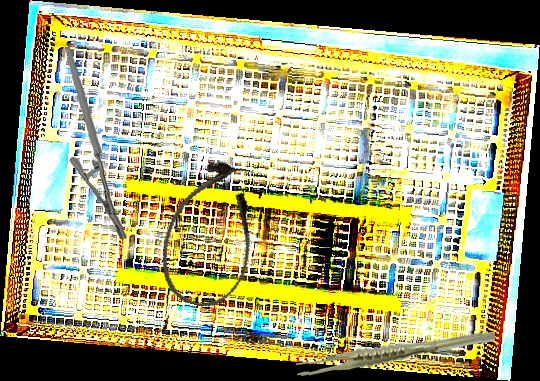Cannula: (149, 153, 273, 316)
Needle Holder: (55, 47, 138, 240)
Tissue Forceps: (295, 326, 496, 381)
